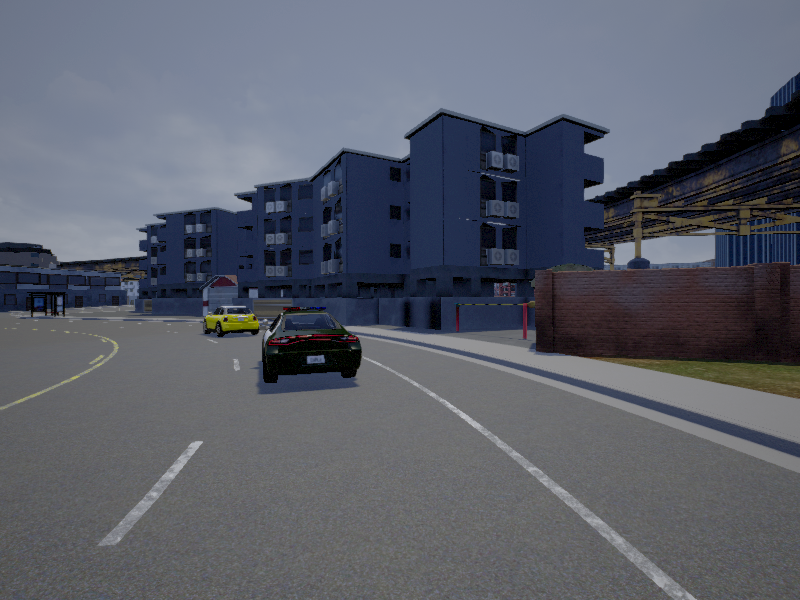Benign: (262, 305, 362, 385), (204, 308, 260, 337)
